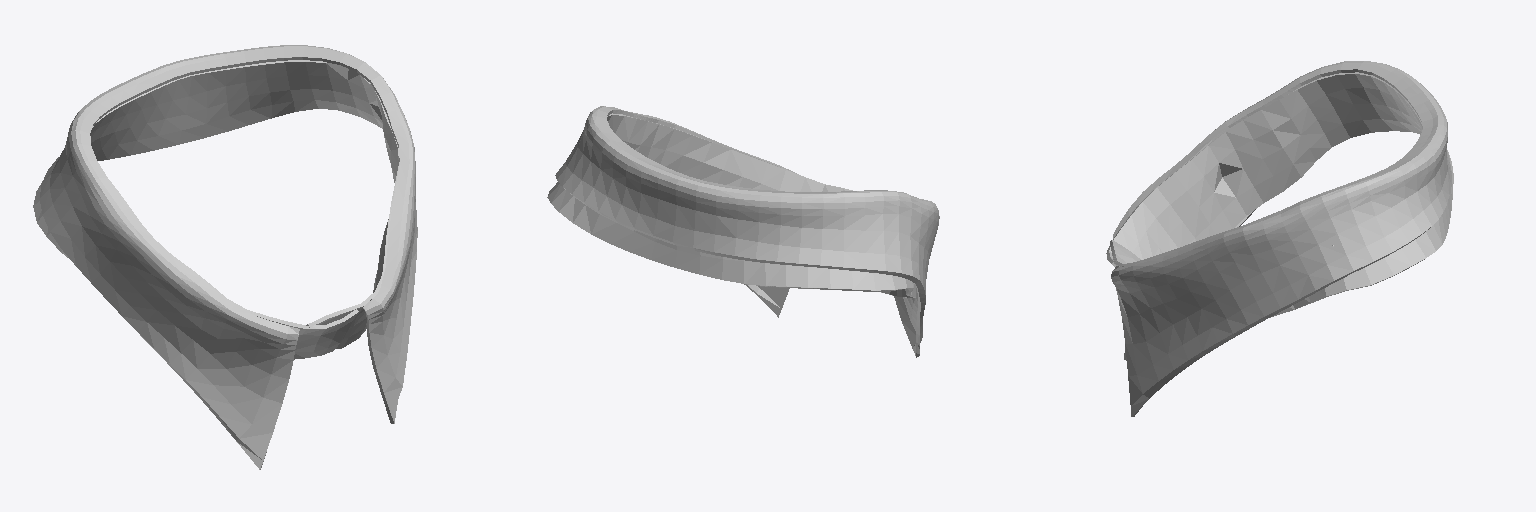
File: collar.obj
The picture shows the model from 3 angles: view 1: azimuth 30°, elevation 25°; view 2: azimuth 150°, elevation 25°; view 3: azimuth 270°, elevation 25°; orthographic projection.
Visible parts, largest first — view 1: collar; view 2: collar; view 3: collar.
Part boxes in pixels (x1,y1,x2,y2): collar: (33,45,417,469); collar: (547,106,939,357); collar: (1106,61,1453,416).
Size of the model in its own units: 163 by 124 by 139.